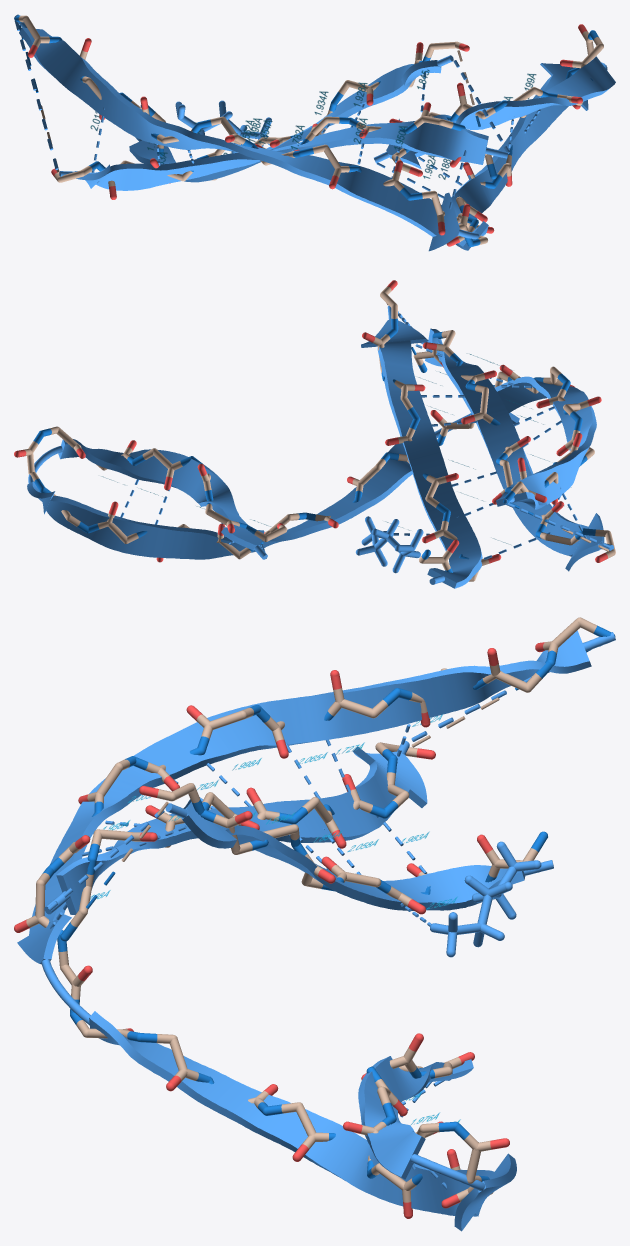
The model's file is 7rsa_beta146_betasheet.glb.
3 views of the same model, one above another, from view 1: azimuth 30°, elevation 25°; view 2: azimuth 150°, elevation 25°; view 3: azimuth 270°, elevation 25° (orthographic). The views are drawn at different scales.
Visible parts, largest first — view 1: New_Node; view 2: New_Node; view 3: New_Node.
Part boxes in pixels (x1=…): New_Node: x1=14, y1=14, x2=615, y2=251; New_Node: x1=14, y1=280, x2=615, y2=588; New_Node: x1=14, y1=617, x2=615, y2=1231.
Size of the model in its own units: 1290698 by 535943 by 862566.
3 materials, 1 textured.
